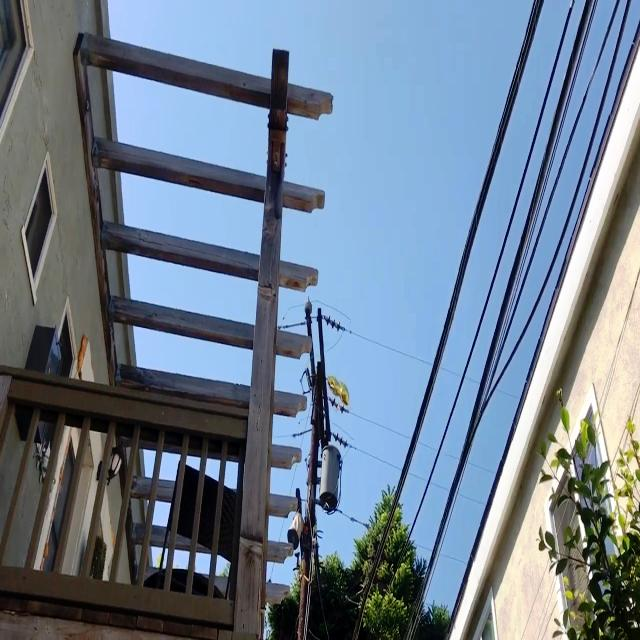obstruction: (328, 375, 349, 405)
poles: (288, 300, 340, 639)
wires: (323, 306, 432, 366), (331, 396, 410, 438), (331, 426, 400, 471), (336, 509, 370, 528), (458, 492, 484, 511), (496, 386, 520, 399), (441, 551, 464, 564), (441, 365, 460, 379), (280, 319, 304, 329), (470, 462, 490, 473), (284, 430, 310, 438), (411, 472, 428, 484), (420, 441, 438, 452), (430, 481, 448, 492), (412, 539, 430, 549), (442, 452, 459, 459), (466, 378, 479, 386)
